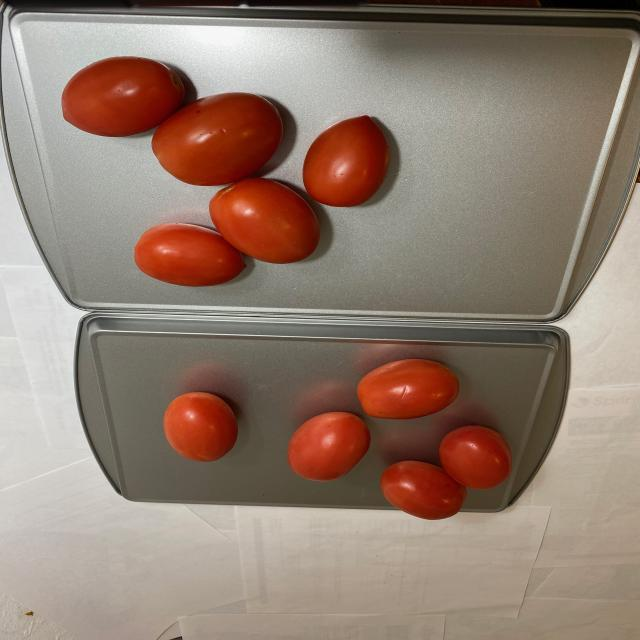tomato: (63, 60, 397, 289), (165, 356, 515, 520)
